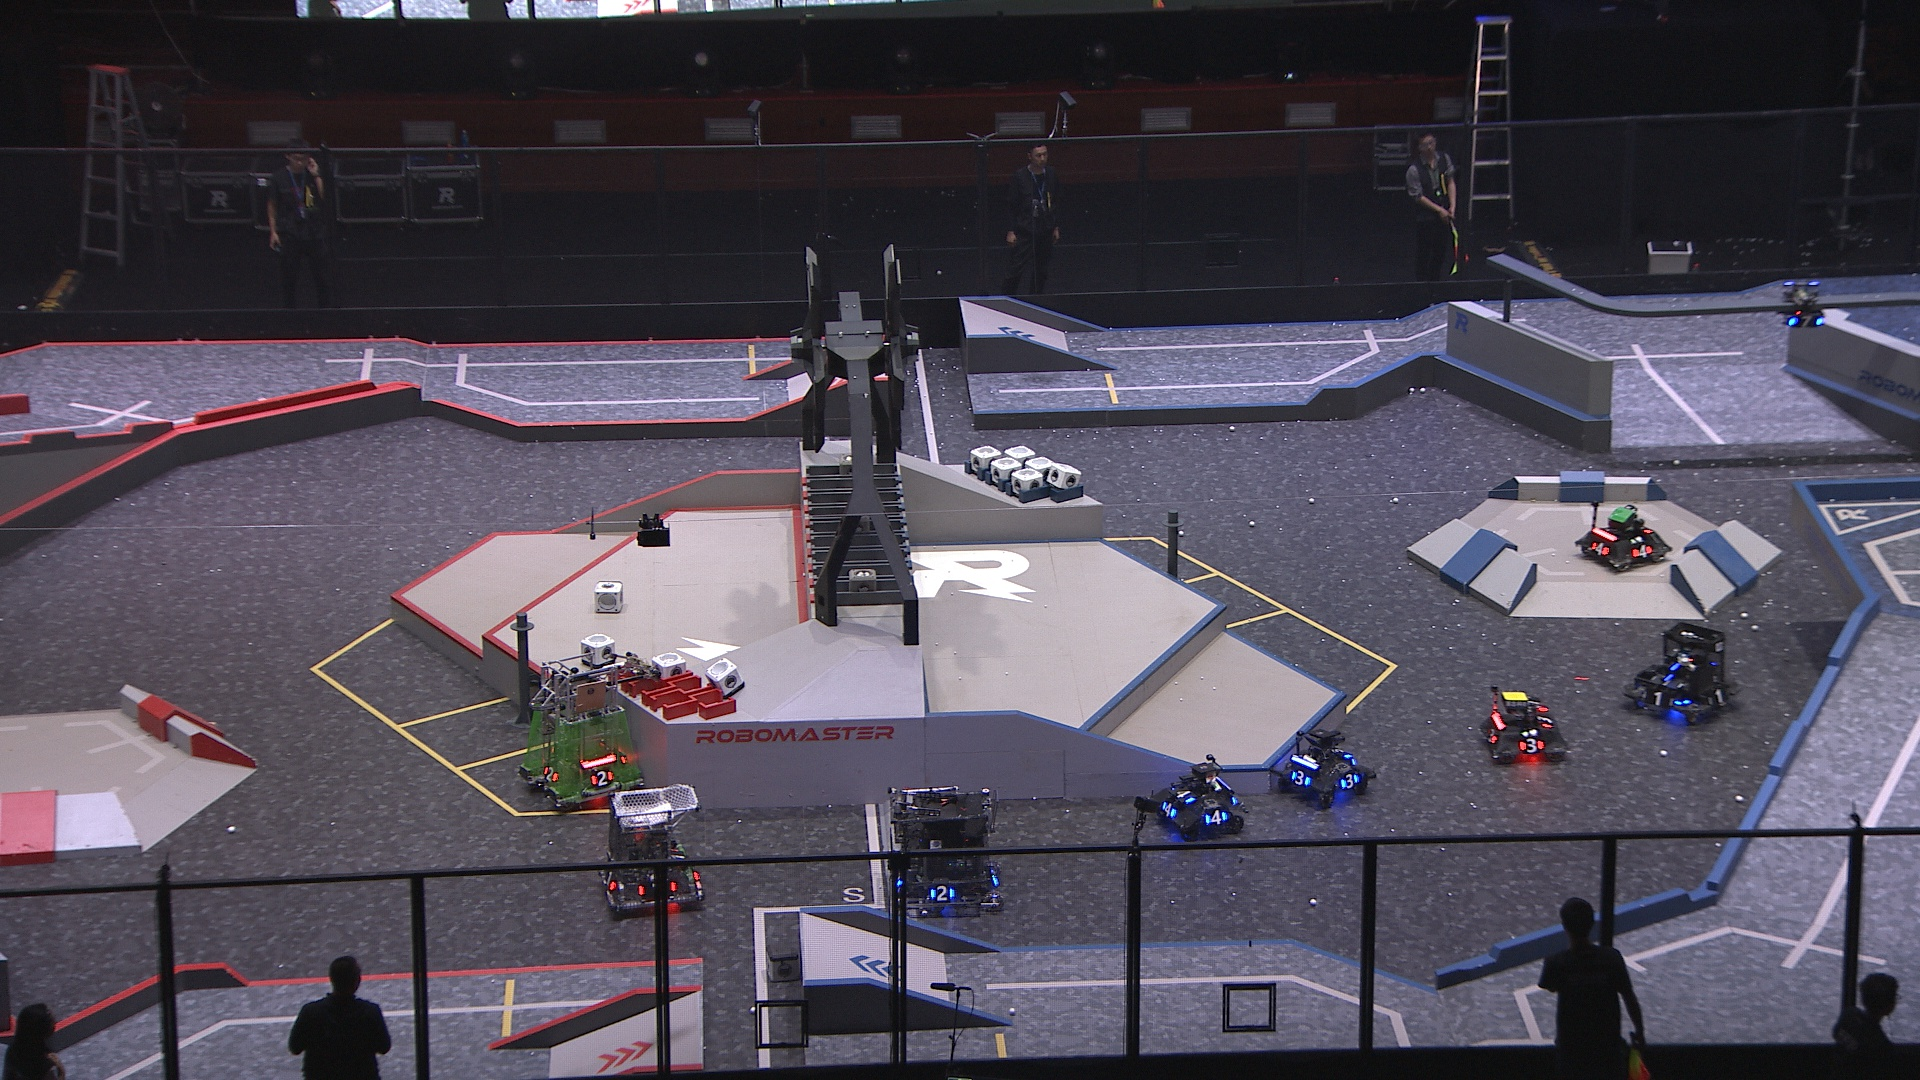armor: (1787, 314, 1826, 332), (1644, 688, 1676, 711), (1650, 675, 1685, 692), (928, 884, 959, 903), (1171, 783, 1197, 806), (1706, 687, 1730, 709), (589, 767, 615, 787), (1288, 769, 1313, 789), (1519, 736, 1545, 754), (541, 764, 560, 785), (1536, 707, 1553, 731), (1338, 771, 1362, 789), (1204, 808, 1228, 825), (669, 845, 688, 865), (1160, 800, 1179, 822), (1631, 543, 1654, 560), (603, 868, 618, 891), (1484, 725, 1501, 745), (1590, 542, 1610, 556)
car: (520, 651, 646, 811), (887, 785, 1005, 915), (600, 785, 707, 916), (1627, 622, 1743, 727), (1149, 756, 1247, 840), (1276, 731, 1381, 808), (1481, 680, 1569, 764), (1577, 501, 1673, 576)
watcher: (1779, 280, 1828, 334)
